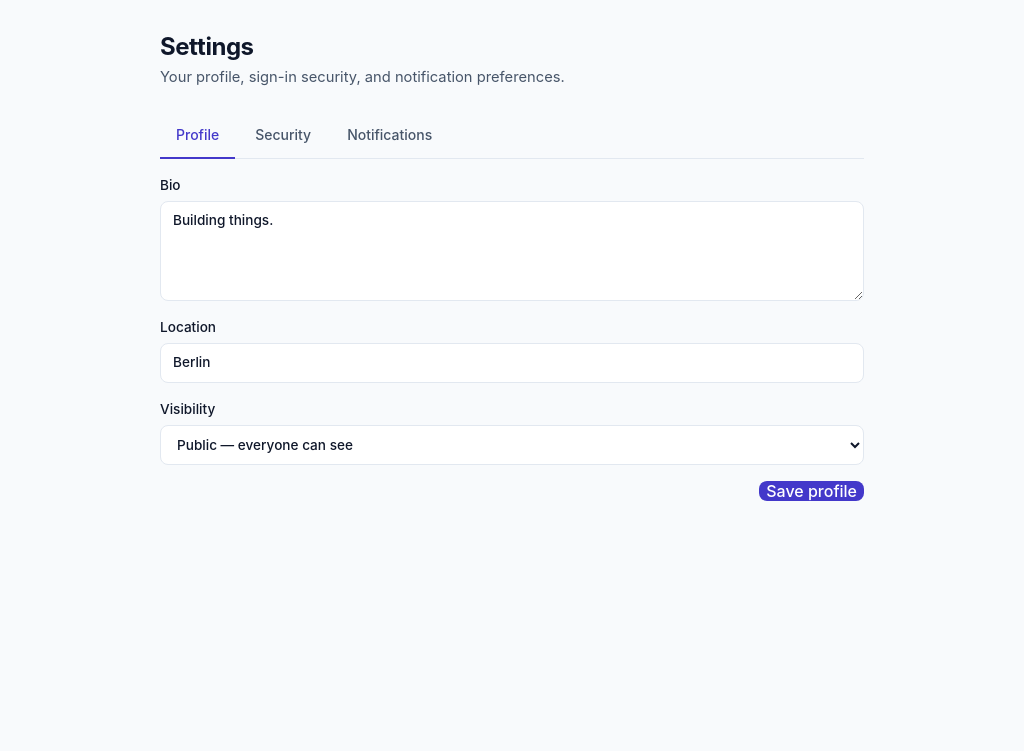
SettingsPage › enables quiet hours with sensible defaults
Click the tab "Notifications": (390, 136) [331,112,448,159]
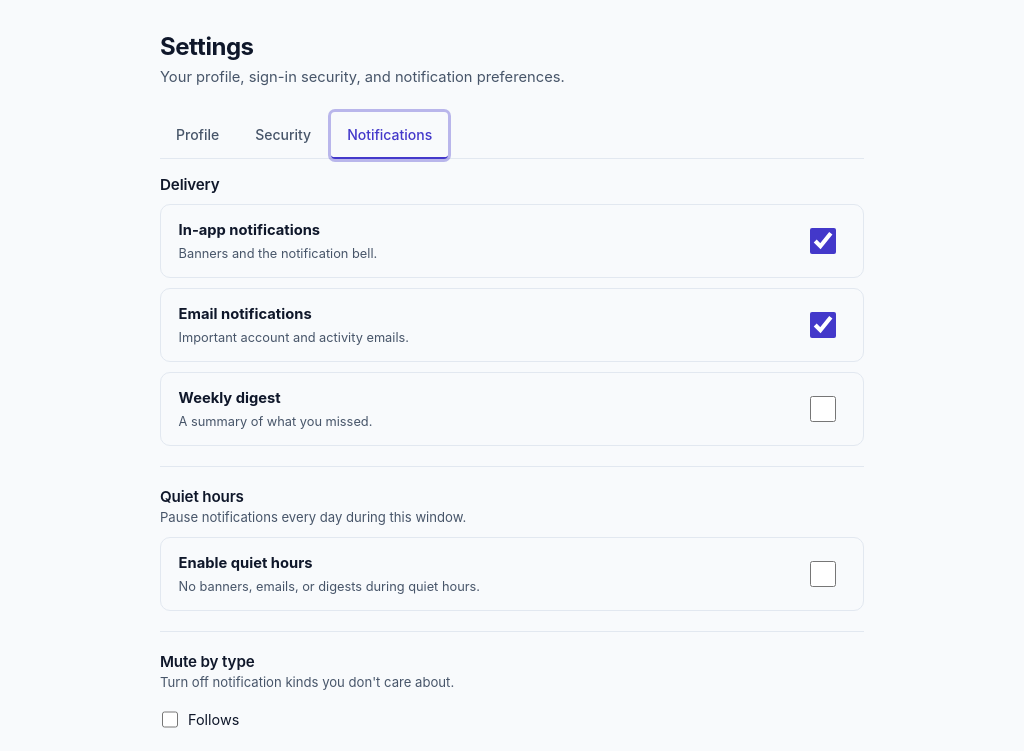
Click the switch labelled "Enable quiet hours": (823, 574) [801,562,845,587]
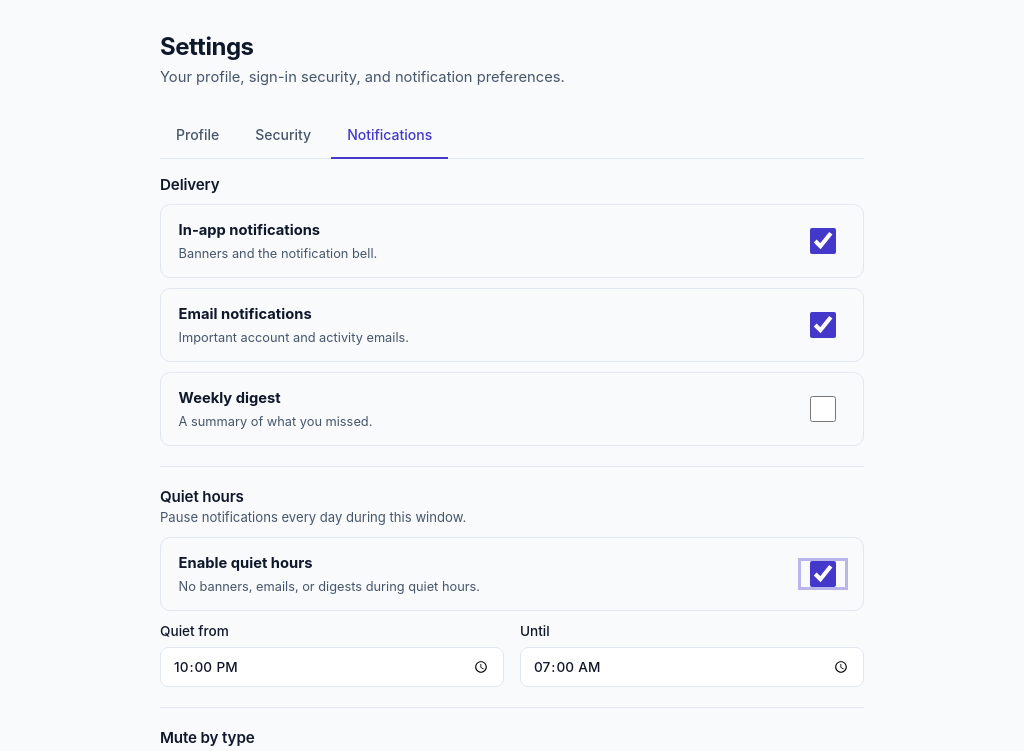
expect the time field labelled "Quiet from" holds "22:00": met, box [160,647,504,688]
expect the time field labelled "Until" holds "07:00": met, box [520,647,864,688]
